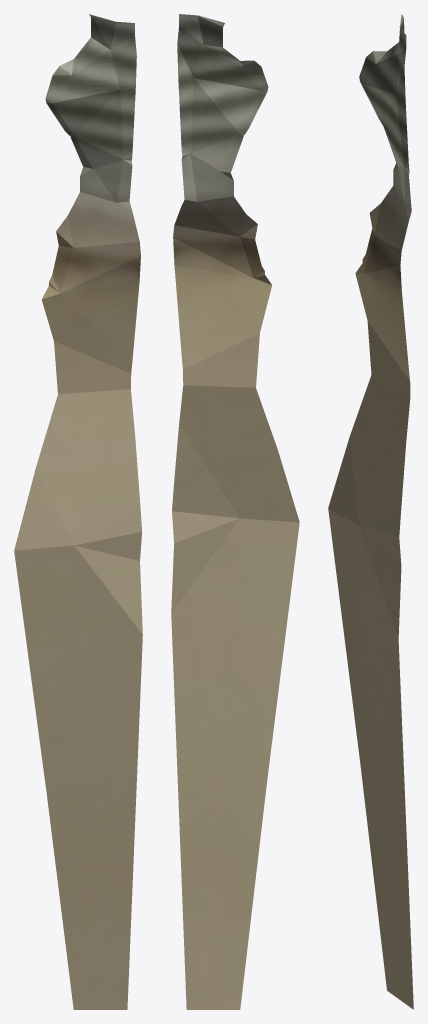
The picture shows the model from 3 angles, left to right: view 1: azimuth 30°, elevation 25°; view 2: azimuth 210°, elevation 25°; view 3: azimuth 330°, elevation 25°; orthographic projection.
Size of the model in its own units: 0.1767 by 1.67 by 0.0878.
1 material, 1 textured.
